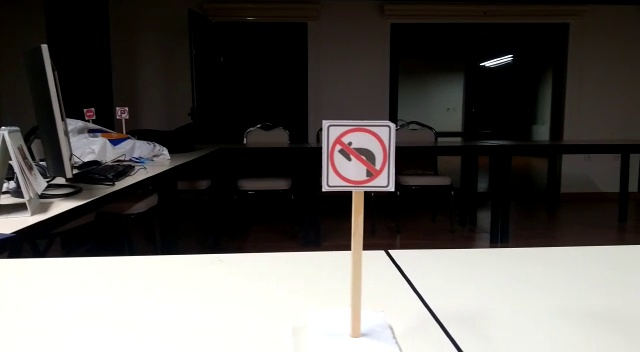sola_donulmez: (325, 121, 393, 191)
